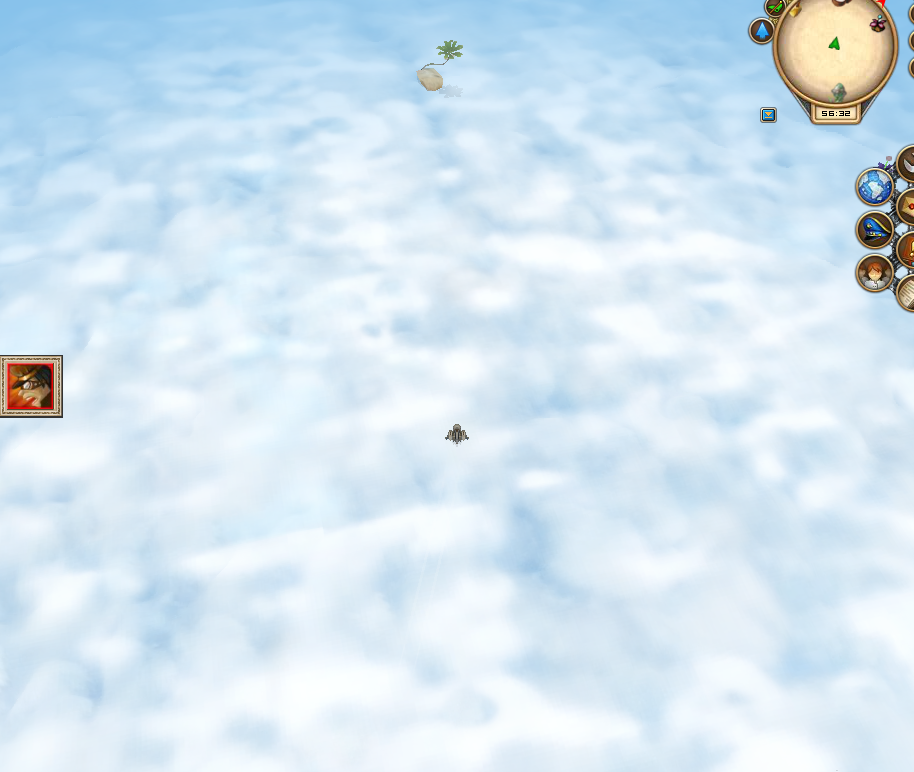palm: (412, 36, 464, 93)
